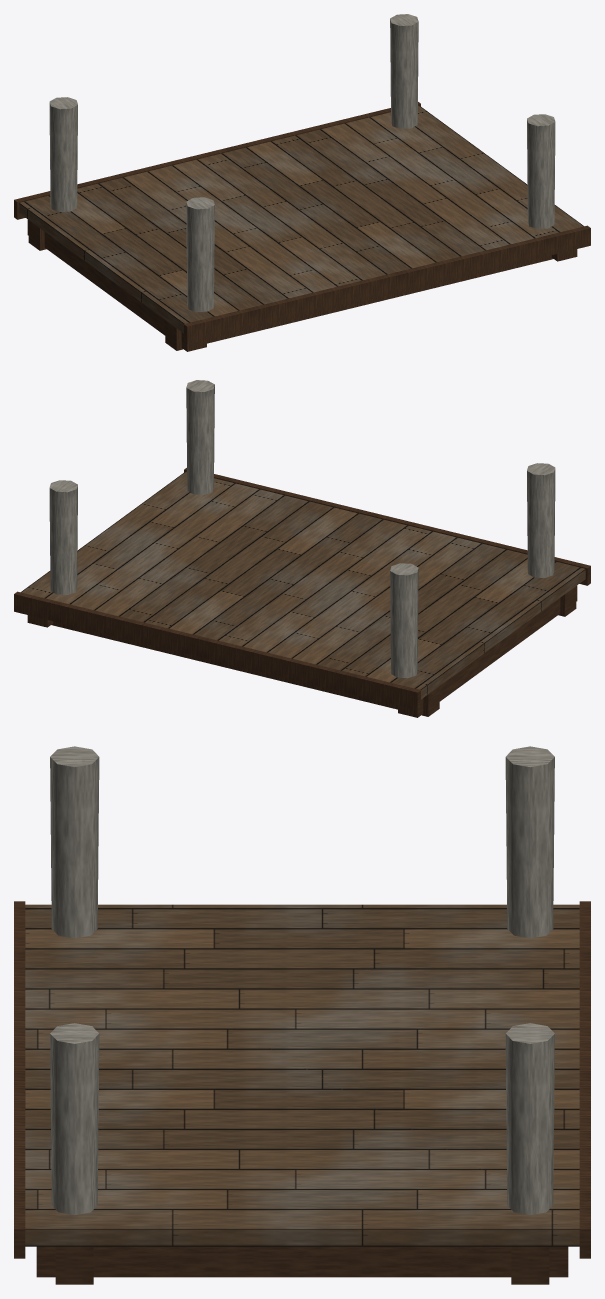
File: SM_Art_Pier_405x300x100_P-100.gltf
3 renders of one model, top to bottom at view 1: azimuth 30°, elevation 25°; view 2: azimuth 150°, elevation 25°; view 3: azimuth 270°, elevation 25°, orthographic. The views are drawn at different scales.
Parts seen in each view (by area): view 1: SM_Art_Pier_405x300x100_P-100; view 2: SM_Art_Pier_405x300x100_P-100; view 3: SM_Art_Pier_405x300x100_P-100.
Part boxes in pixels (<box>): SM_Art_Pier_405x300x100_P-100: <box>14,14,590,351</box>; SM_Art_Pier_405x300x100_P-100: <box>14,380,590,717</box>; SM_Art_Pier_405x300x100_P-100: <box>14,746,590,1284</box>.
Bounding box in the file's own units: 4.09 × 1.32 × 3.04.
Materials: 3 (3 with a texture image).
